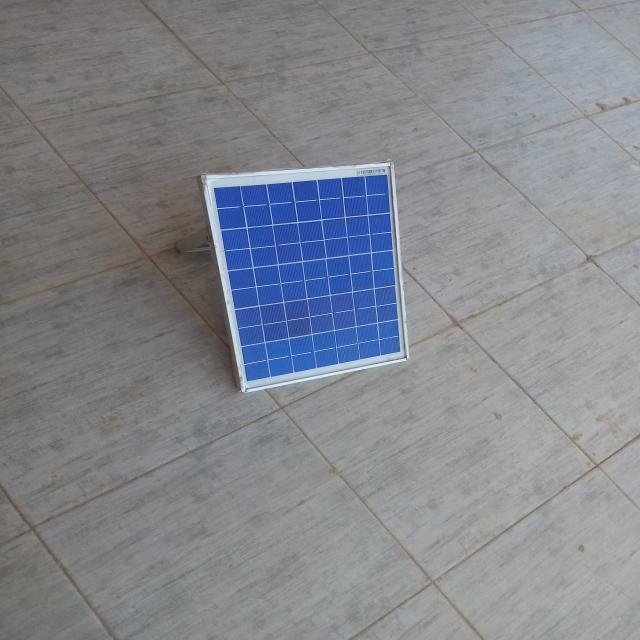Normal Solar Panel: (205, 169, 408, 388)
